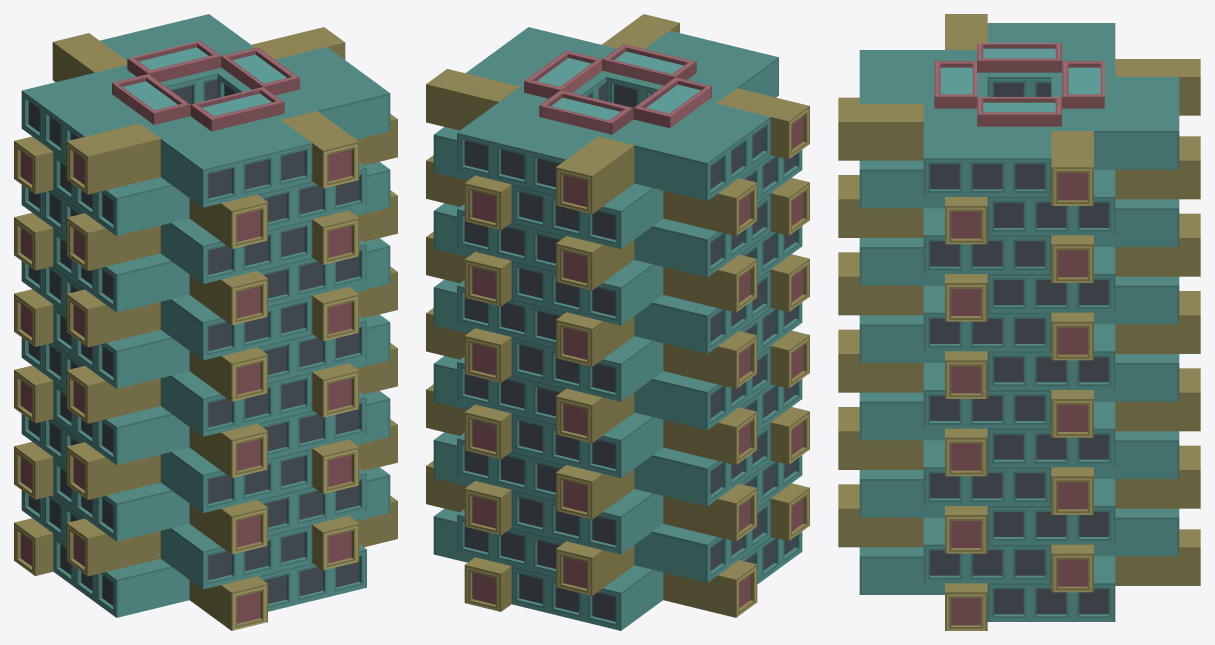
The model's file is Buildings_01-12.obj.
The picture shows the model from 3 angles, left to right: view 1: azimuth 30°, elevation 25°; view 2: azimuth 150°, elevation 25°; view 3: azimuth 270°, elevation 25°; orthographic projection.
Bounding box in the file's own units: 17 × 24.6 × 17.
Materials: 1 (1 with a texture image).
